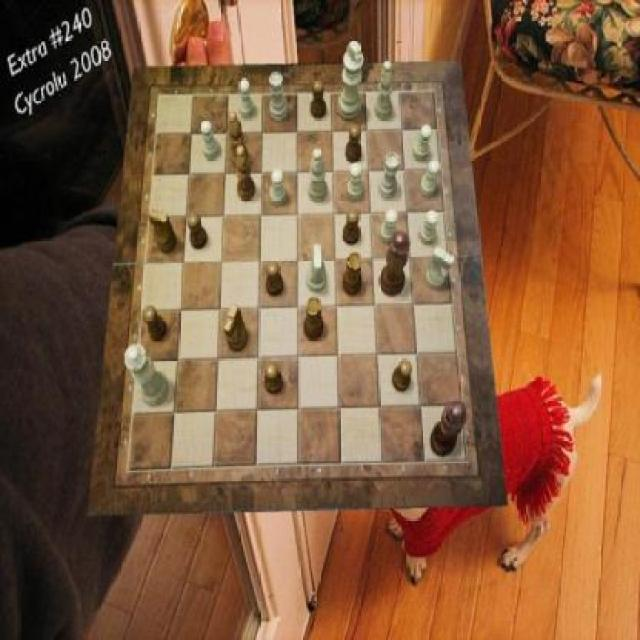bishop: (228, 111, 248, 168), (237, 144, 257, 200)
black-bishop: (431, 400, 467, 458)
black-king: (148, 209, 177, 255), (223, 305, 248, 352)
black-knight: (143, 306, 167, 341), (188, 212, 208, 250), (264, 362, 284, 396), (392, 358, 412, 392), (266, 262, 284, 298), (346, 124, 362, 164), (310, 80, 326, 120), (343, 210, 360, 246)
black-pawn: (380, 231, 412, 296)
black-queen: (304, 296, 324, 340), (343, 251, 362, 296)
black-rook: (375, 60, 393, 120), (310, 149, 328, 203)
white-bishop: (338, 40, 364, 122)
white-king: (426, 248, 456, 290), (308, 244, 328, 294)
white-knight: (200, 120, 220, 160), (420, 160, 440, 198), (412, 125, 432, 162), (420, 209, 440, 244), (270, 170, 288, 206), (238, 80, 254, 120), (380, 209, 398, 243), (348, 163, 364, 201)
white-pawn: (124, 345, 168, 407)
white-queen: (378, 154, 399, 200), (270, 72, 288, 121)
